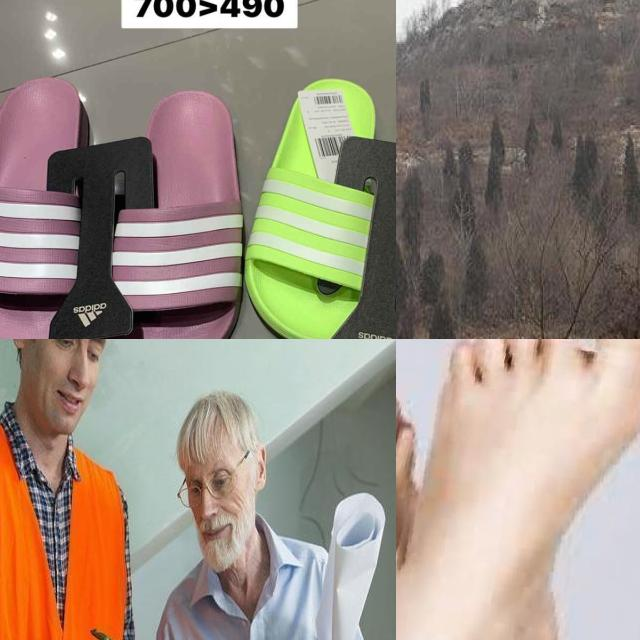Barefoots: (396, 339, 640, 640)
Sandals: (0, 46, 259, 339), (240, 48, 396, 339)
face_nomask: (37, 339, 109, 424), (182, 468, 240, 558)
glasses: (175, 469, 240, 511)
head_nohelmet: (170, 390, 255, 462)
person: (148, 390, 383, 640), (0, 339, 150, 640)
vest: (0, 425, 133, 640)
